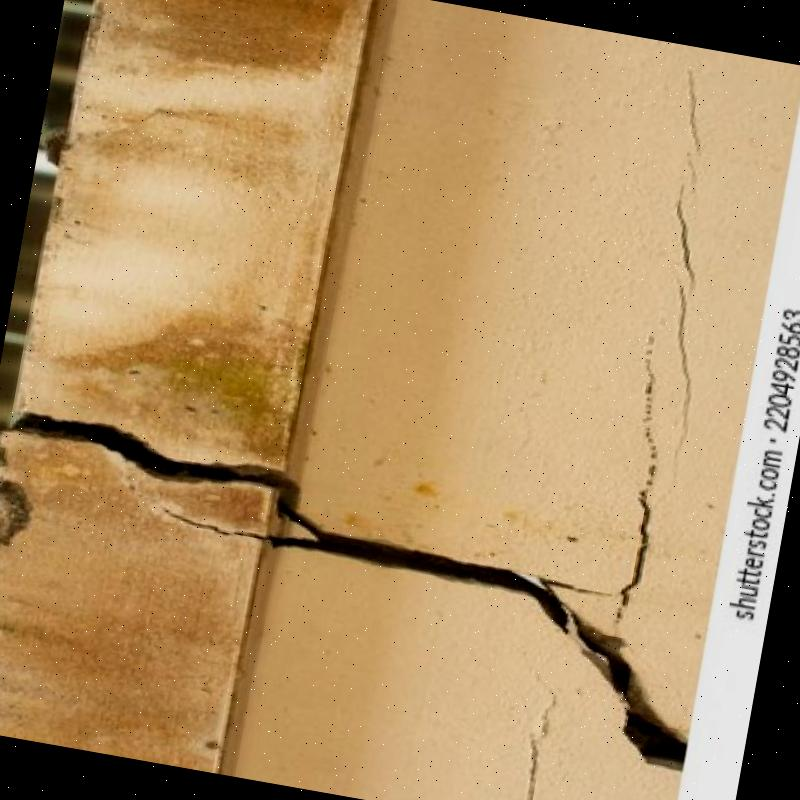Fracture: (0, 371, 497, 593), (493, 566, 742, 760)
